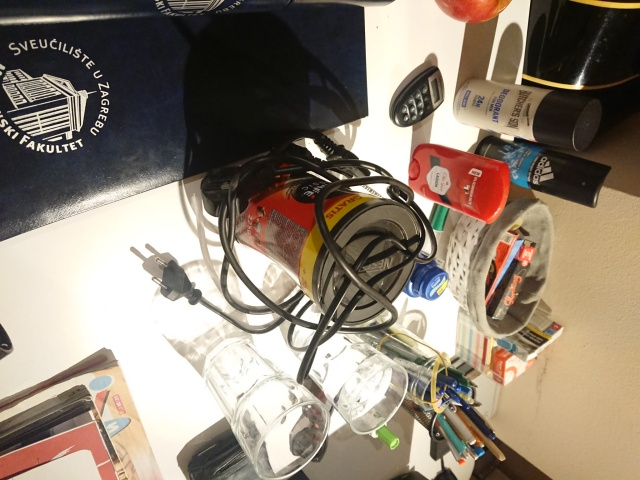Nescafe Classic 225g: (221, 153, 425, 329)
